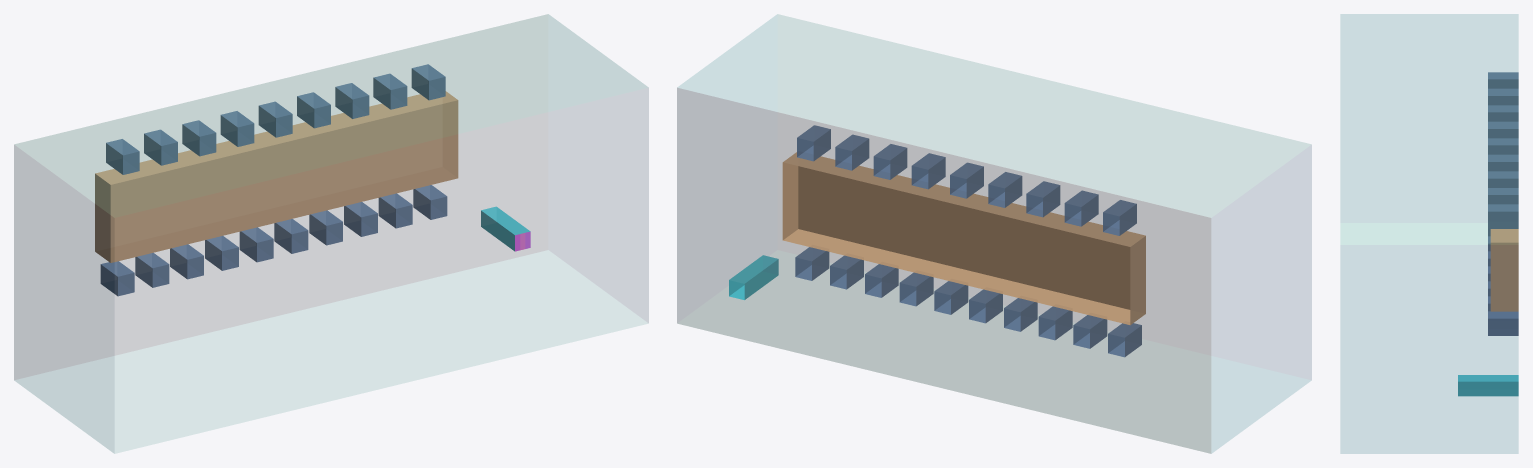
Rendered from huiyishi(1).glb.
3 views of the same model, side by side, from view 1: azimuth 30°, elevation 25°; view 2: azimuth 150°, elevation 25°; view 3: azimuth 270°, elevation 25° (orthographic). The views are drawn at different scales.
Visible parts, largest first — view 1: floor, wall_ymax, wall_ymin, internal_conference_table, wall_xmin, wall_xmax, internal_chairs, internal_human_body; view 2: floor, wall_ymax, internal_conference_table, wall_xmin, internal_chairs, internal_human_body; view 3: wall_ymax, wall_xmax, internal_chairs, internal_conference_table, internal_human_body.
Boxes of the visible parts, x1,y1,x2,y2 form: floor: (14, 14, 547, 379); wall_ymax: (15, 14, 647, 217); wall_ymin: (115, 251, 647, 452); internal_conference_table: (95, 91, 458, 262); wall_xmin: (14, 145, 113, 452); wall_xmax: (549, 88, 648, 322); internal_chairs: (100, 64, 447, 296); internal_human_body: (481, 206, 530, 251); floor: (677, 88, 1210, 453); wall_ymax: (678, 14, 1310, 217); internal_conference_table: (782, 152, 1145, 325); wall_xmin: (1212, 145, 1311, 452); internal_chairs: (795, 125, 1141, 357); internal_human_body: (729, 255, 778, 300); wall_ymax: (1341, 14, 1517, 244); wall_xmax: (1341, 245, 1517, 453); internal_chairs: (1488, 72, 1518, 335); internal_conference_table: (1490, 229, 1518, 311); internal_human_body: (1458, 375, 1518, 396).
Bounding box in the file's own units: 15.38 × 6.49 × 5.01.
